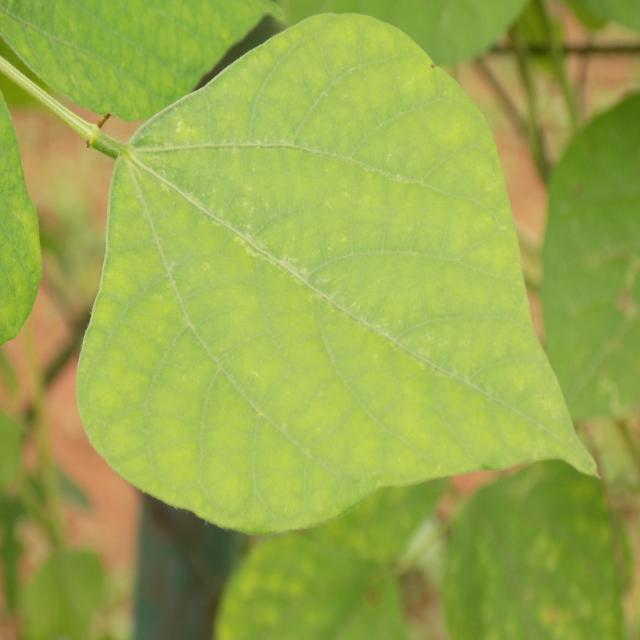Dolicos bean_healthy: (78, 12, 608, 535)
